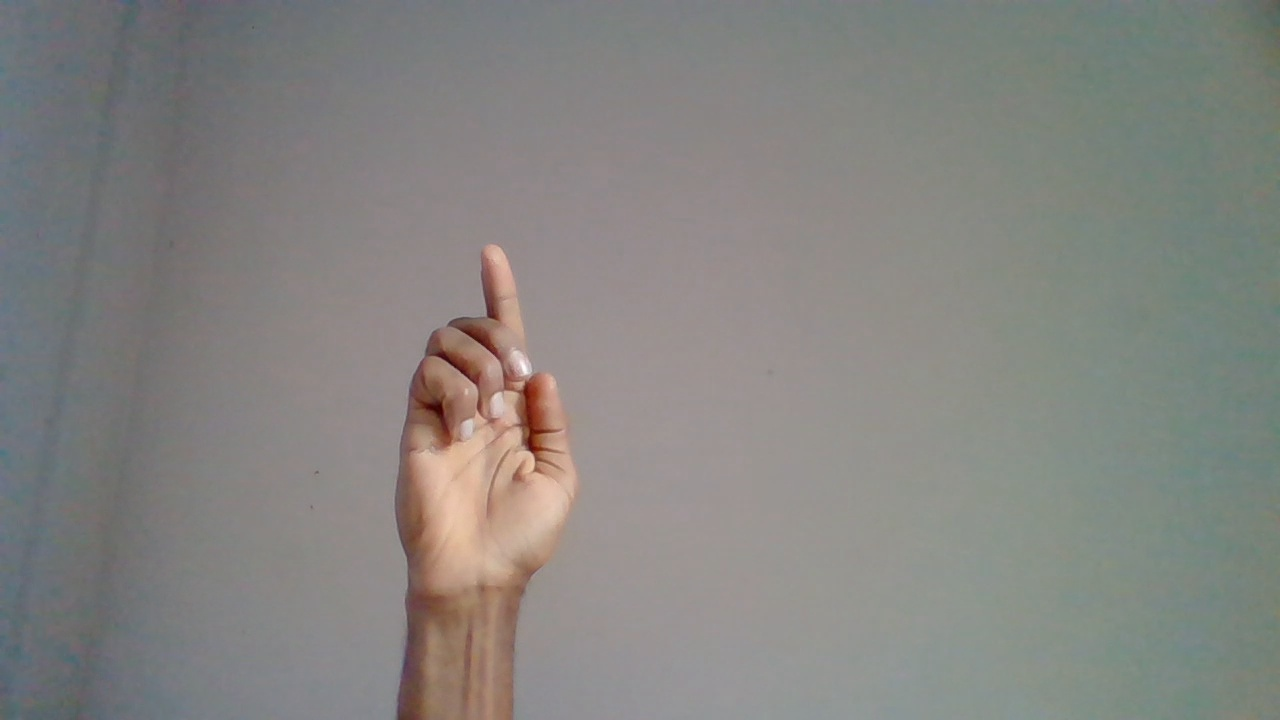qe: (392, 242, 581, 709)
